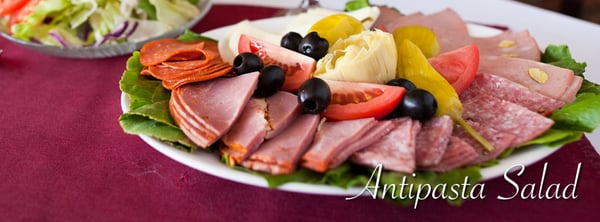sushi: (0, 0, 212, 60)
